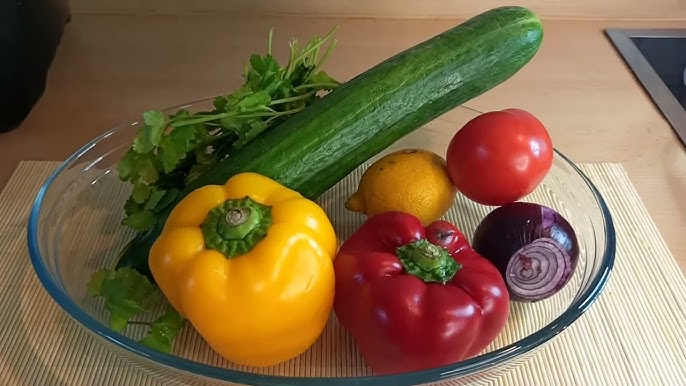bell pepper: (142, 174, 344, 361), (330, 207, 511, 379)
cucumber: (96, 4, 563, 279)
lemon: (355, 147, 468, 227)
onion: (472, 195, 592, 308)
parsley: (108, 23, 337, 217)
tomato: (441, 100, 573, 209)
